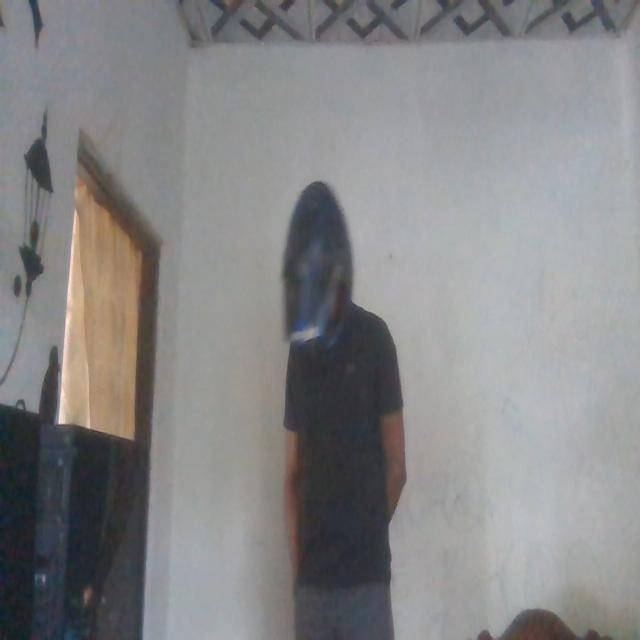Helmet_Wearer: (266, 172, 356, 374)
Person: (275, 242, 414, 640)
